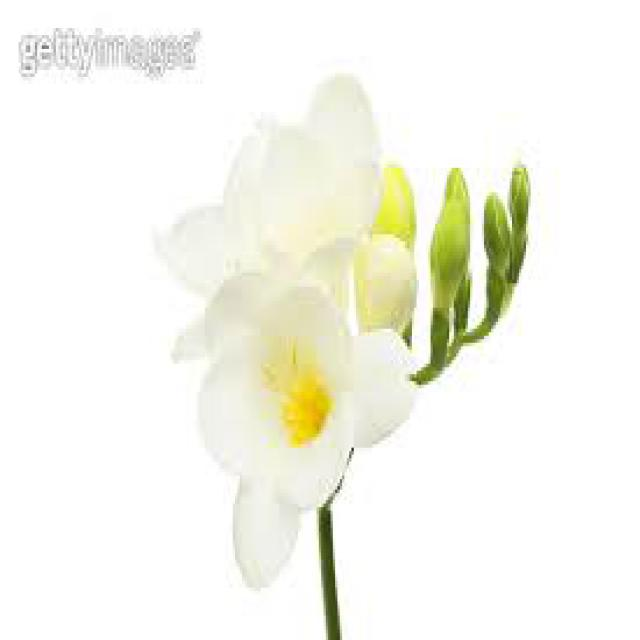freesia: (146, 58, 402, 590)
